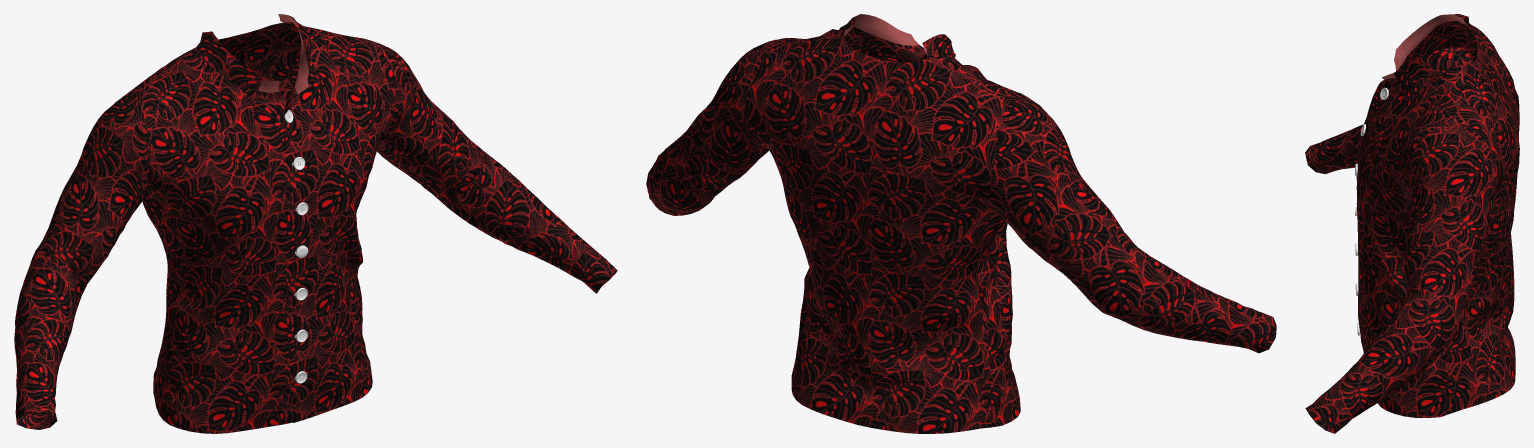
File: Baju_Panjang.fbx
3 renders of one model, left to right at view 1: azimuth 30°, elevation 25°; view 2: azimuth 150°, elevation 25°; view 3: azimuth 270°, elevation 25°, orthographic. The views are drawn at different scales.
Visible parts, largest first — view 1: Baju_Panjang.001; view 2: Baju_Panjang.001; view 3: Baju_Panjang.001.
Boxes of the visible parts, bbox=[...] form: Baju_Panjang.001: bbox=[14, 14, 617, 433]; Baju_Panjang.001: bbox=[646, 14, 1276, 433]; Baju_Panjang.001: bbox=[1305, 14, 1519, 433].
Bounding box in the file's own units: 1060 × 619 × 349.
Materials: 4 (2 with a texture image).
